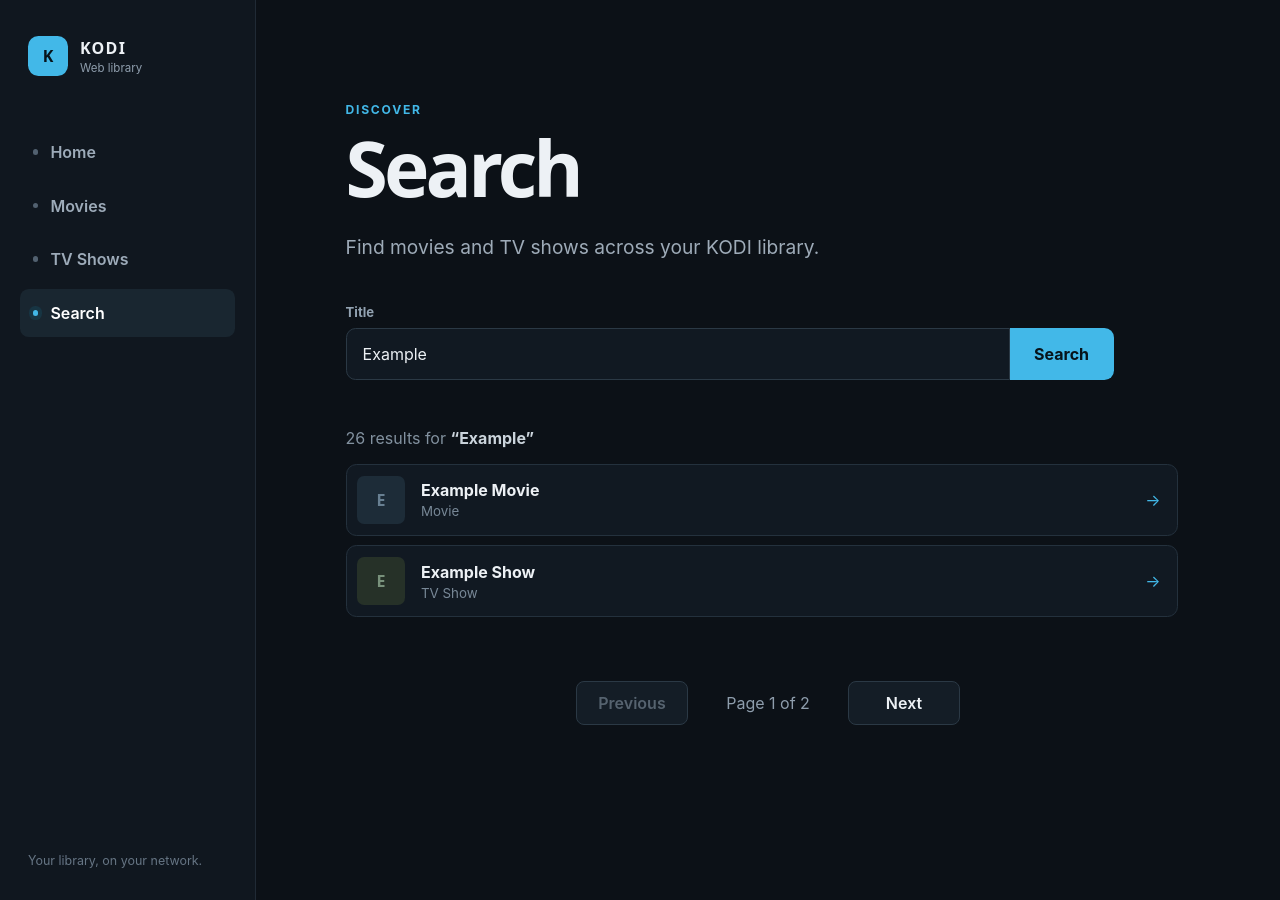
Test case: search page › paginates while preserving the search query
Step 1. Click the button "Next" → [904, 703], box 848,681 -> 960,725
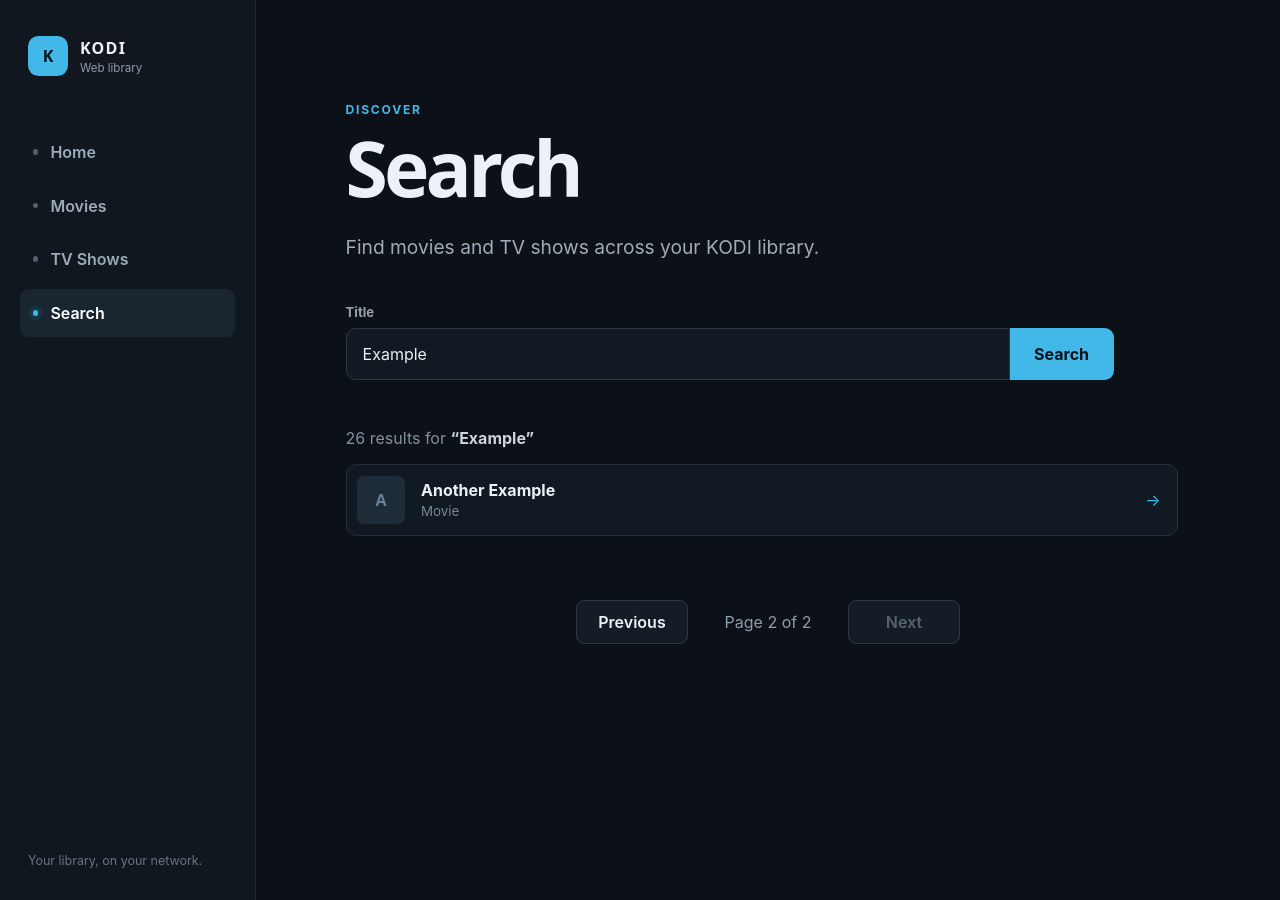
expect the link "A Another Example Movie →" is shown: met, box 346,464 -> 1178,536
